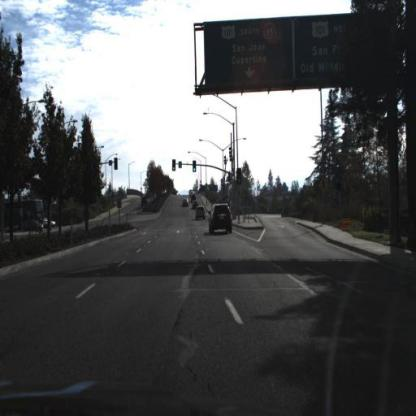car: (210, 204, 234, 235), (195, 202, 208, 225), (22, 219, 44, 232), (43, 218, 56, 230), (196, 206, 206, 221), (141, 195, 149, 209), (183, 199, 190, 209), (195, 201, 200, 211)
trafficLight-Green: (237, 167, 246, 187), (171, 158, 179, 177), (192, 160, 198, 178), (237, 170, 243, 186), (193, 160, 198, 173), (173, 159, 177, 172)
truck: (1, 200, 45, 221)
